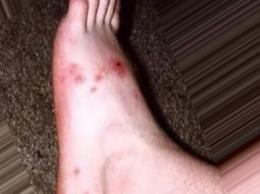Ants: (62, 60, 86, 86), (107, 55, 130, 82), (94, 71, 105, 82), (131, 88, 141, 99), (72, 166, 81, 176), (89, 85, 97, 94)
